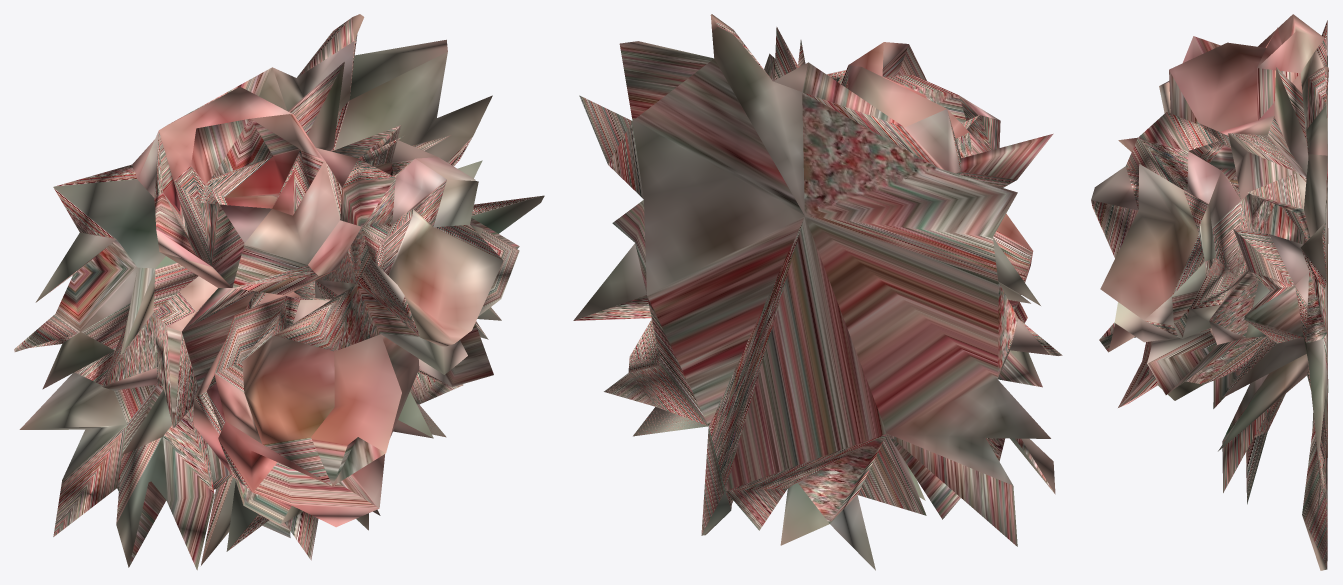
3 renders of one model, left to right at view 1: azimuth 30°, elevation 25°; view 2: azimuth 150°, elevation 25°; view 3: azimuth 270°, elevation 25°, orthographic. The views are drawn at different scales.
Visible parts, largest first — view 1: Rose-Bouquet-10-17; view 2: Rose-Bouquet-10-17; view 3: Rose-Bouquet-10-17.
Boxes of the visible parts, <box> form: Rose-Bouquet-10-17: <box>14,14,544,570</box>; Rose-Bouquet-10-17: <box>573,14,1062,570</box>; Rose-Bouquet-10-17: <box>1091,14,1328,570</box>.
Bounding box in the file's own units: 0.3014 × 0.3037 × 0.1308.
1 material, 1 textured.
